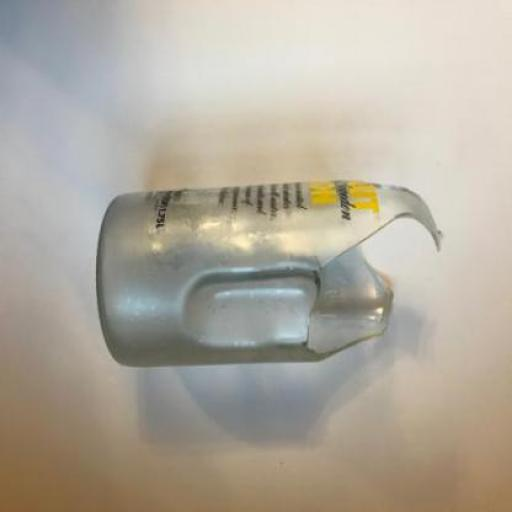glass: (96, 181, 446, 369)
